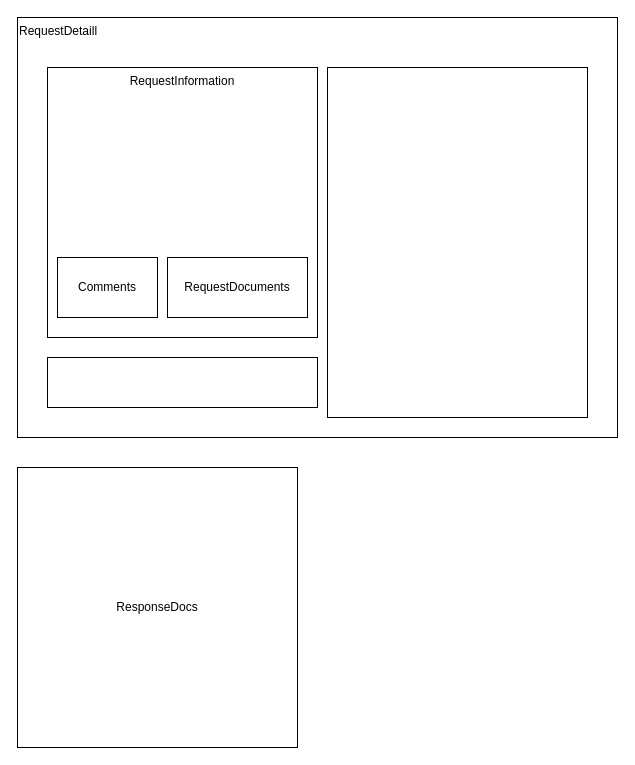
The diagram is 635 pixels wide and 765 high, and some of its shapes have lost their labels. The centre of each missing label's shape, as x and y in pixels:
RequestCoversheets: [182,382]
RequestTabs: [457,242]
